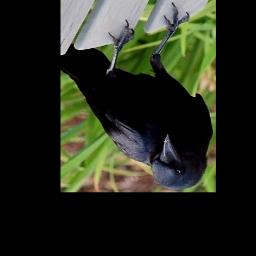Crow: (61, 2, 213, 189)
